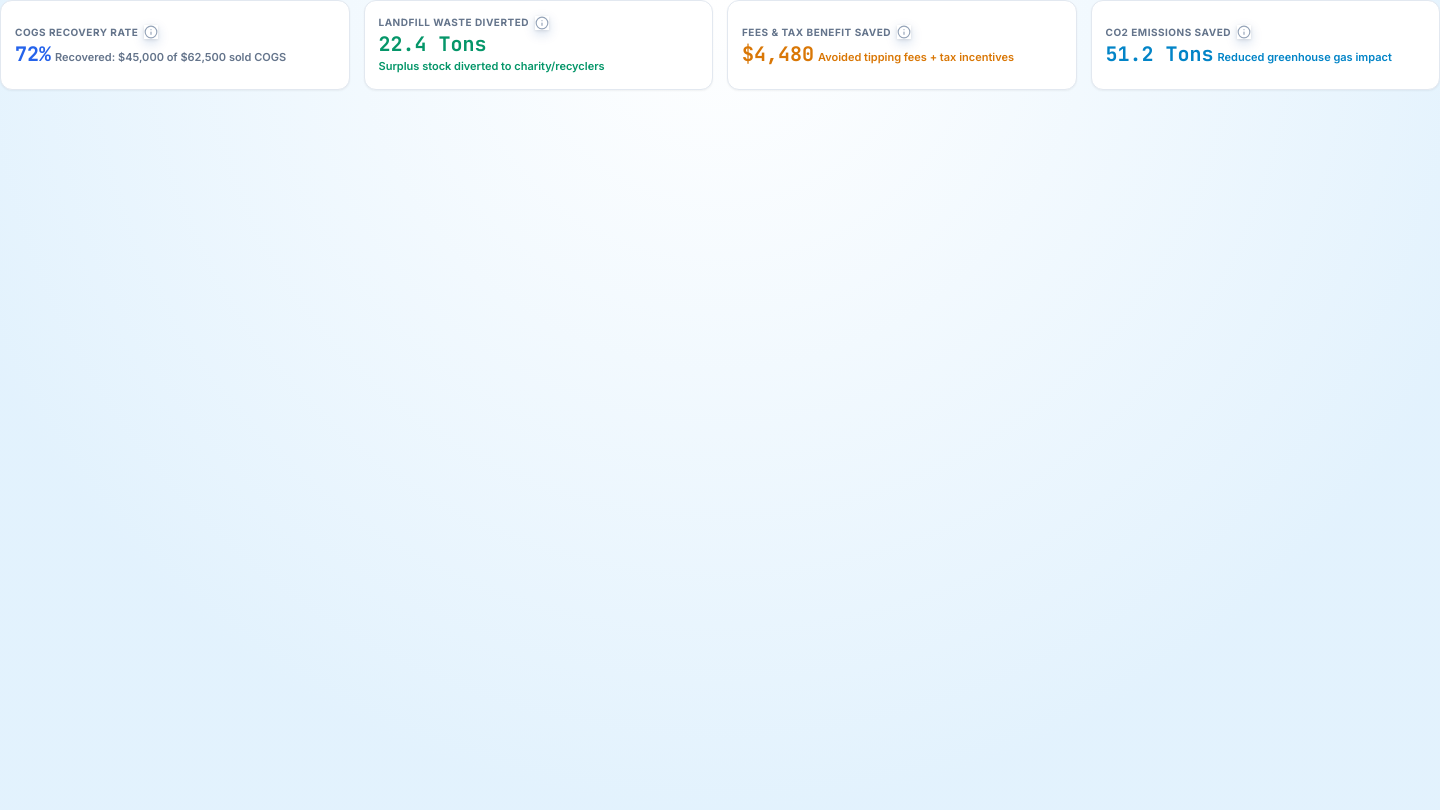
Test: SummaryMetrics — Recovery & Sustainability Panel Metric Cards (Ticket 01) › renders verified formula disclosures for Fees Saved and CO2 Saved metric cards
Note: Card 3: Fees & Tax Benefit Saved
Click the button named "more information about fees & tax benefit saved".
click(904, 32)  # box x1=897 y1=25 x2=911 y2=39
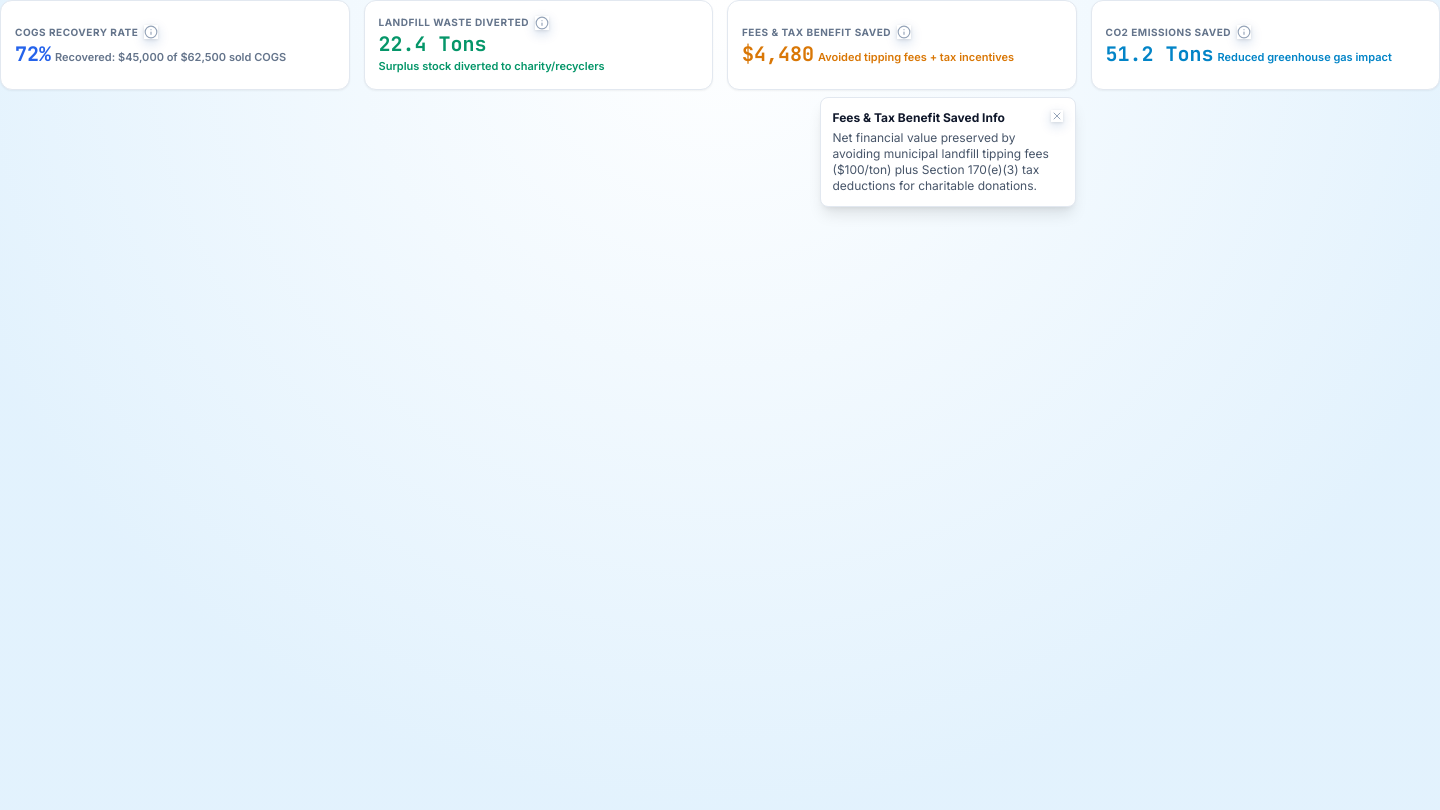
Expected: the text "Fees & Tax Benefit Saved Info" is shown, x1=832 y1=110 x2=1005 y2=126
Expected: the text "Net financial value preserved by avoiding municipal landfill tipping fees ($100/ton) plus Section 170(e)(3) tax " is shown, x1=832 y1=130 x2=1049 y2=192
Note: Card 4: CO2 Emissions Saved (auto-closes Card 3)
Click the button named "more information about co2 emissions saved".
click(1244, 32)  # box x1=1237 y1=25 x2=1251 y2=39
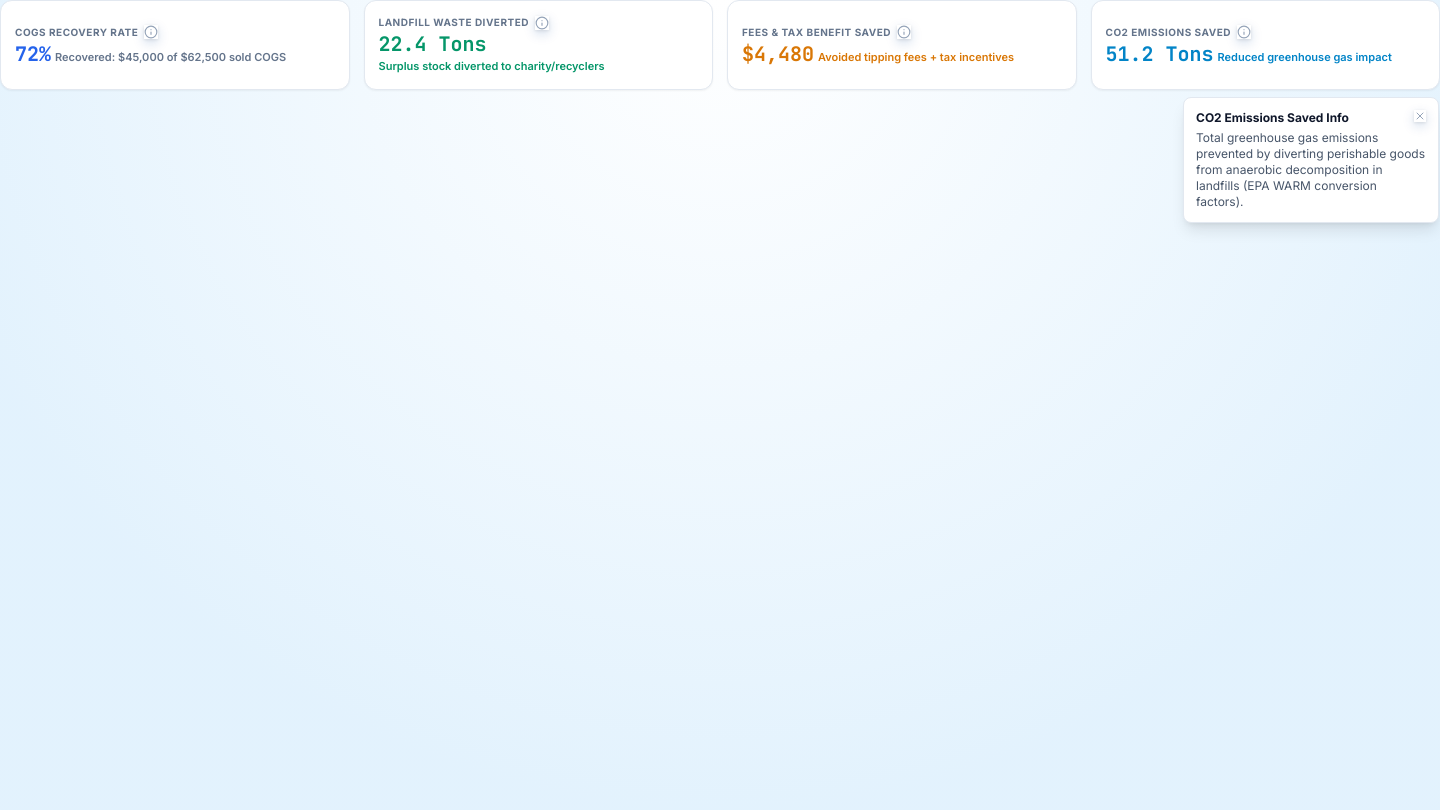
Expected: the text "CO2 Emissions Saved Info" is shown, x1=1196 y1=110 x2=1349 y2=126
Expected: the text "Fees & Tax Benefit Saved Info" is gone
Expected: the text "Total greenhouse gas emissions prevented by diverting perishable goods from anaerobic decomposition in landfills (EPA W" is shown, x1=1196 y1=130 x2=1425 y2=208
